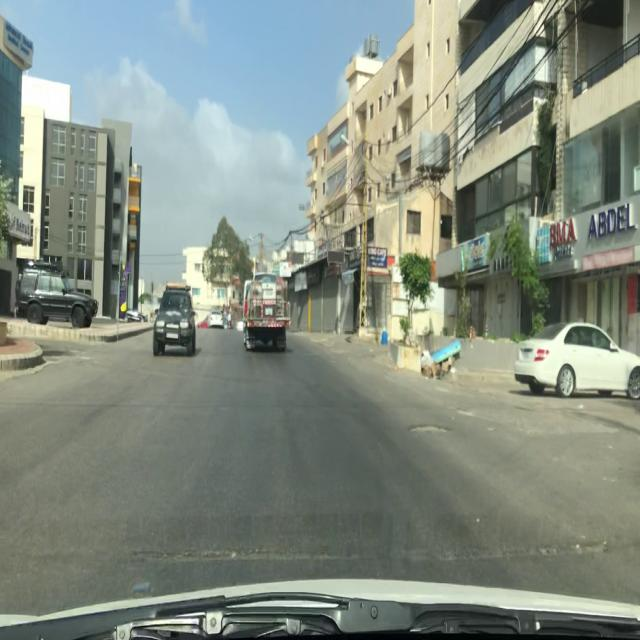Pothole: (407, 417, 456, 438)
